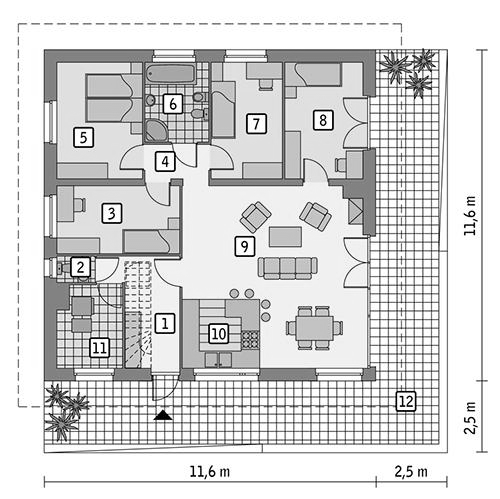door: (338, 235, 367, 292), (338, 96, 365, 151), (151, 257, 178, 287), (144, 185, 174, 211), (210, 144, 235, 171), (117, 144, 140, 172), (300, 157, 329, 179)
